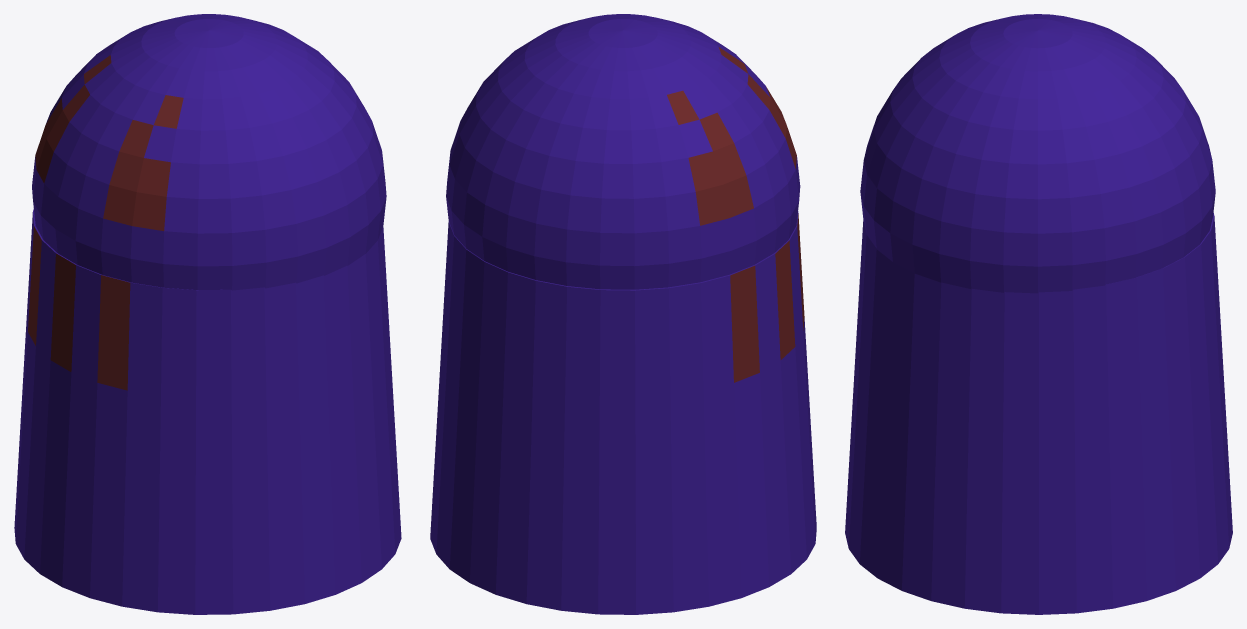
File: ghost.fbx
The picture shows the model from 3 angles, left to right: view 1: azimuth 30°, elevation 25°; view 2: azimuth 150°, elevation 25°; view 3: azimuth 270°, elevation 25°; orthographic projection.
Visible parts, largest first — view 1: Cylinder, Sphere; view 2: Cylinder, Sphere; view 3: Cylinder, Sphere.
Part boxes in pixels (bbox=[...]): Cylinder: bbox=[14, 209, 401, 614]; Sphere: bbox=[32, 14, 386, 290]; Cylinder: bbox=[430, 211, 816, 614]; Sphere: bbox=[446, 14, 800, 289]; Cylinder: bbox=[845, 213, 1232, 614]; Sphere: bbox=[860, 14, 1215, 293].
Size of the model in its own units: 221 by 316 by 221.
